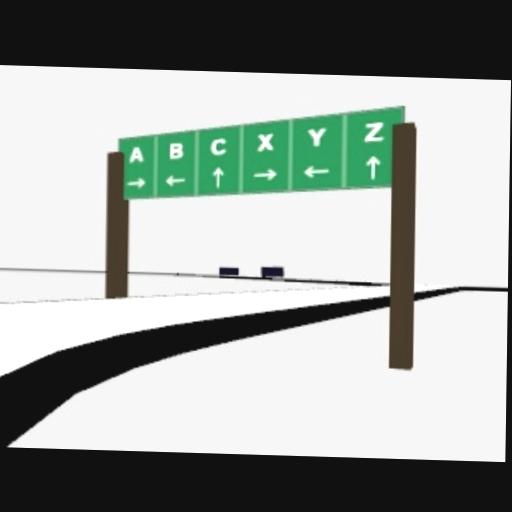A: (129, 145, 143, 163)
B: (168, 142, 182, 159)
C: (209, 138, 227, 155)
Left: (301, 164, 330, 179), (164, 175, 186, 188)
Right: (251, 169, 278, 181), (125, 177, 147, 189)
Straight: (365, 154, 380, 178), (210, 165, 225, 186)
X: (255, 132, 273, 152)
Y: (305, 125, 325, 146)
Z: (362, 119, 384, 141)
